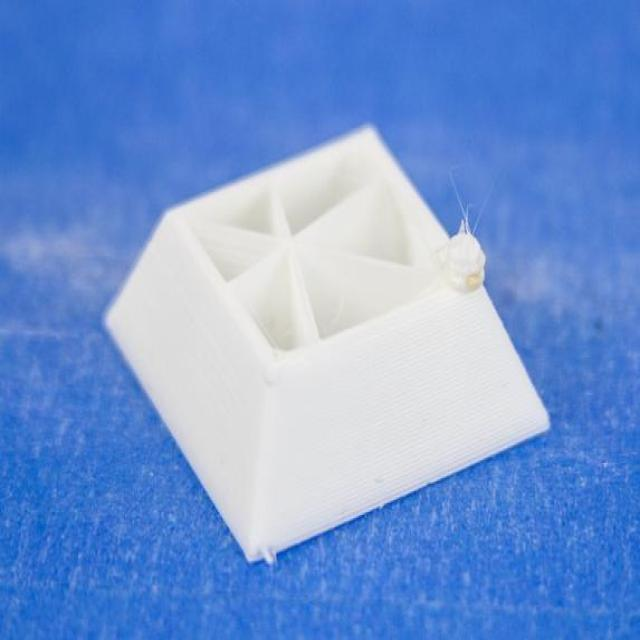blobs: (434, 222, 489, 292)
